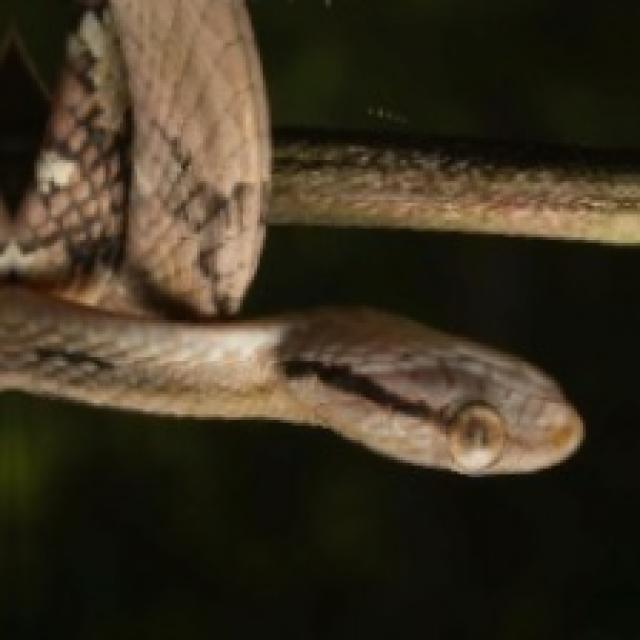dog-toothed cat snake: (0, 0, 580, 471)
